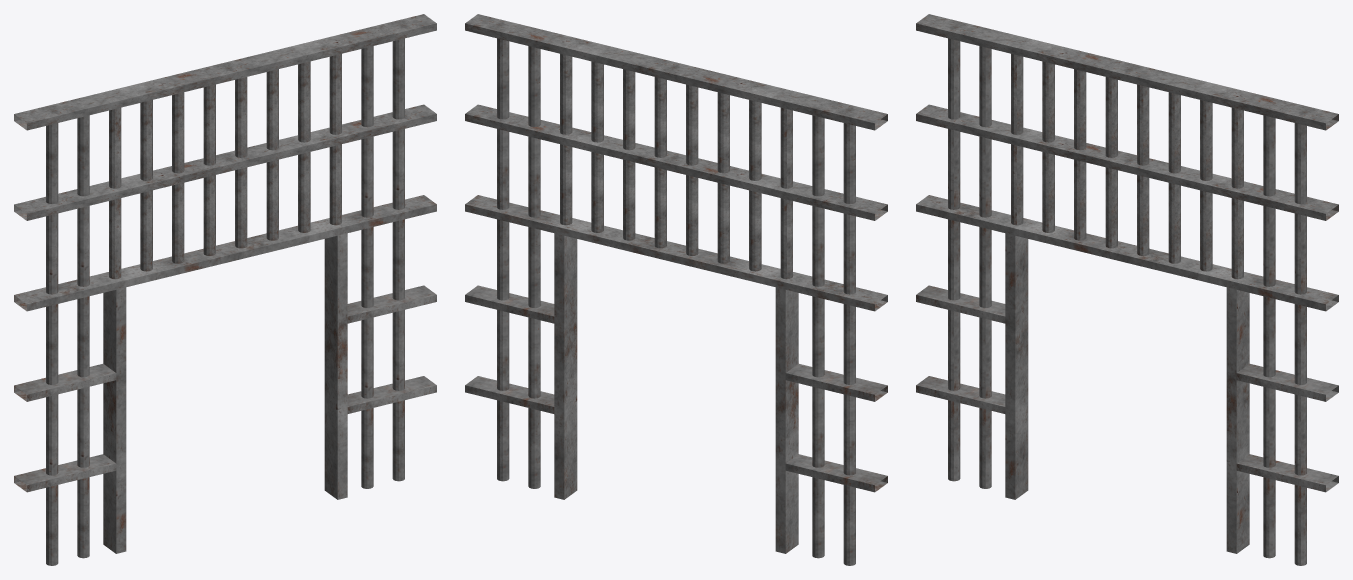
File: cell_gate.fbx
3 renders of one model, left to right at view 1: azimuth 30°, elevation 25°; view 2: azimuth 150°, elevation 25°; view 3: azimuth 330°, elevation 25°, orthographic.
Visible parts, largest first — view 1: cell_gate; view 2: cell_gate; view 3: cell_gate.
Boxes of the visible parts, bbox=[...] form: cell_gate: bbox=[14, 14, 436, 565]; cell_gate: bbox=[465, 14, 887, 565]; cell_gate: bbox=[916, 14, 1338, 565].
Size of the model in its own units: 361 by 380 by 19.62.
1 material, 1 textured.
